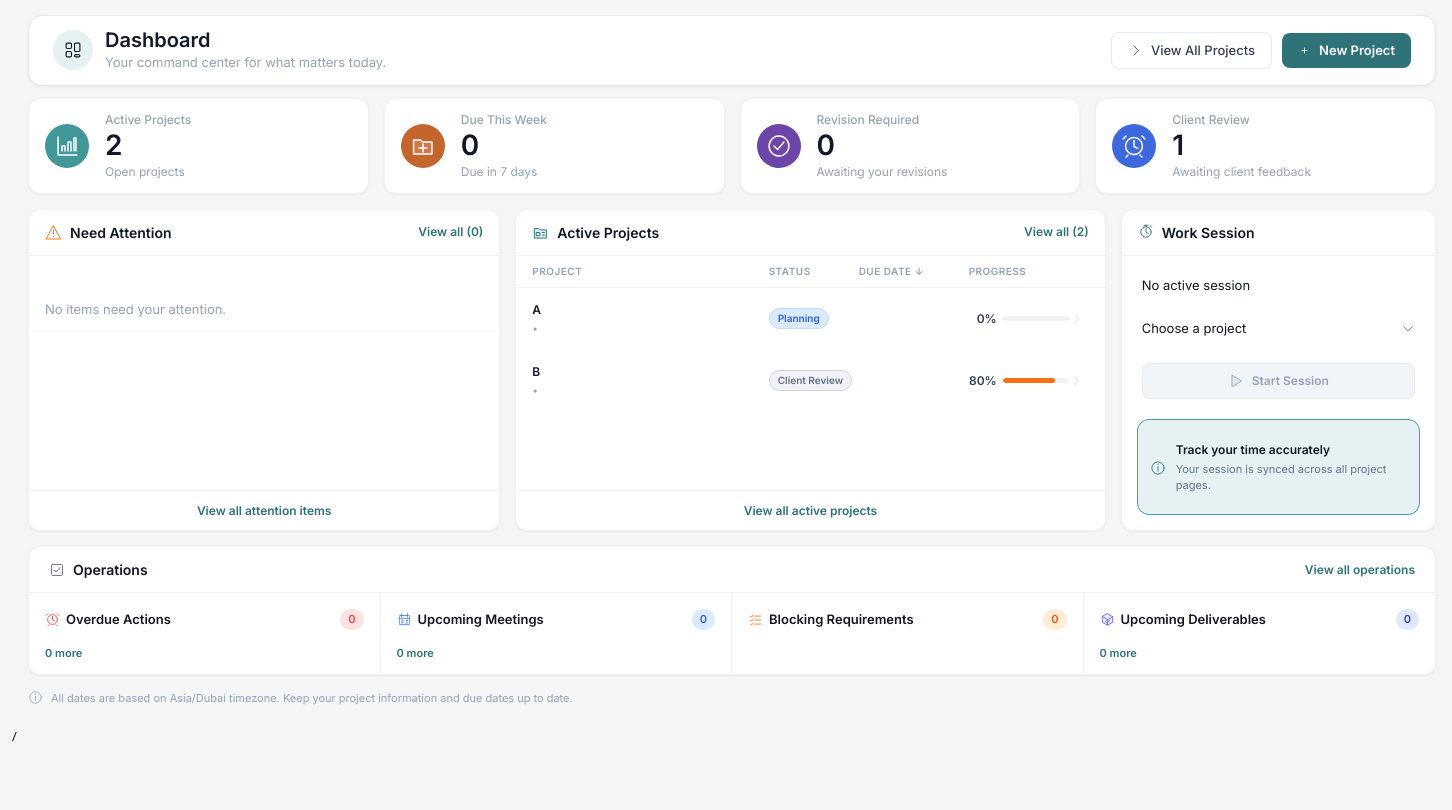
Test: opens Projects with its matching KPI filter: {}
Step 1. Click the button "Active Projects 2 Open projects" → point(67, 146), box [28,98,369,194]
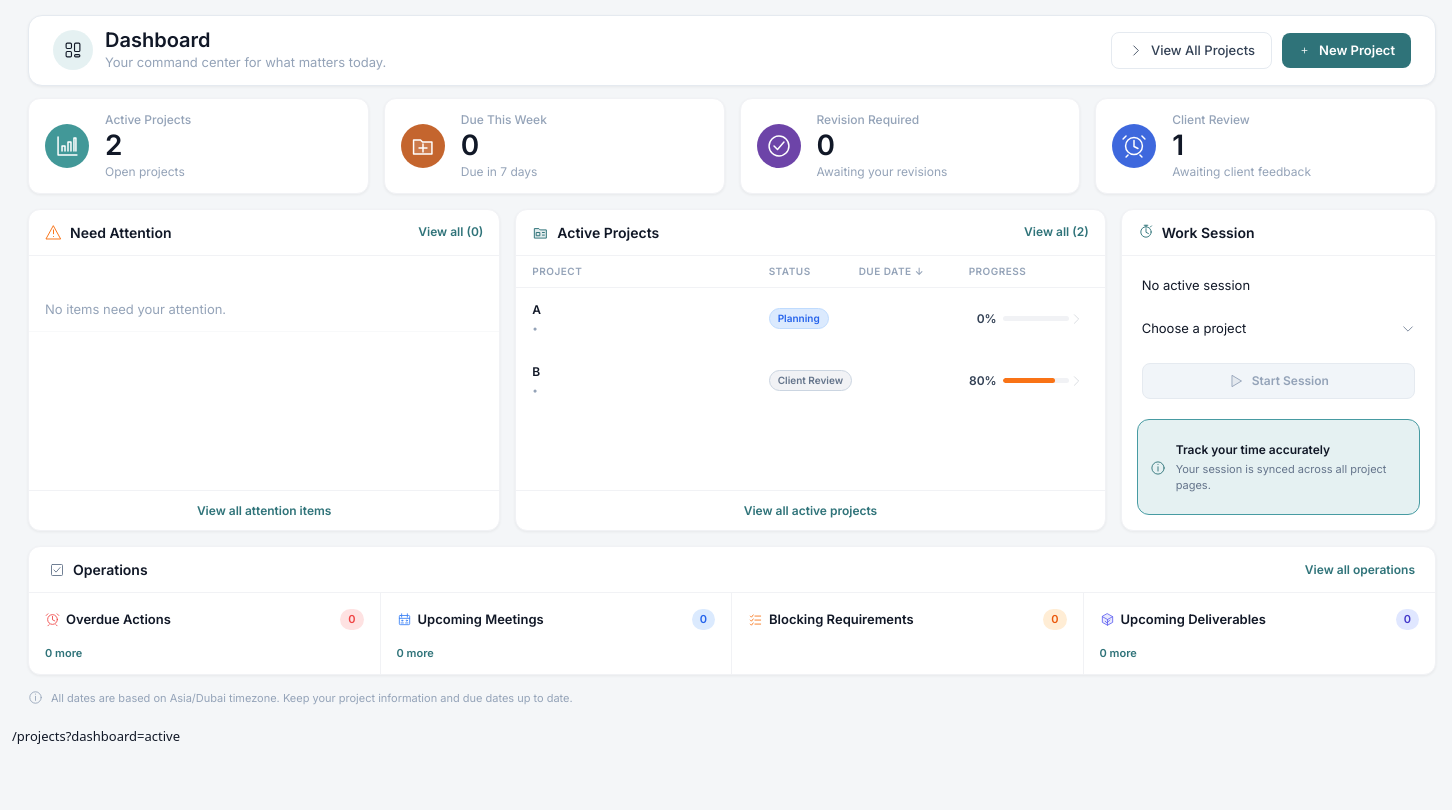
Check: the text named "Destination" reads "/projects?dashboard=active", box [12,727,180,745]
